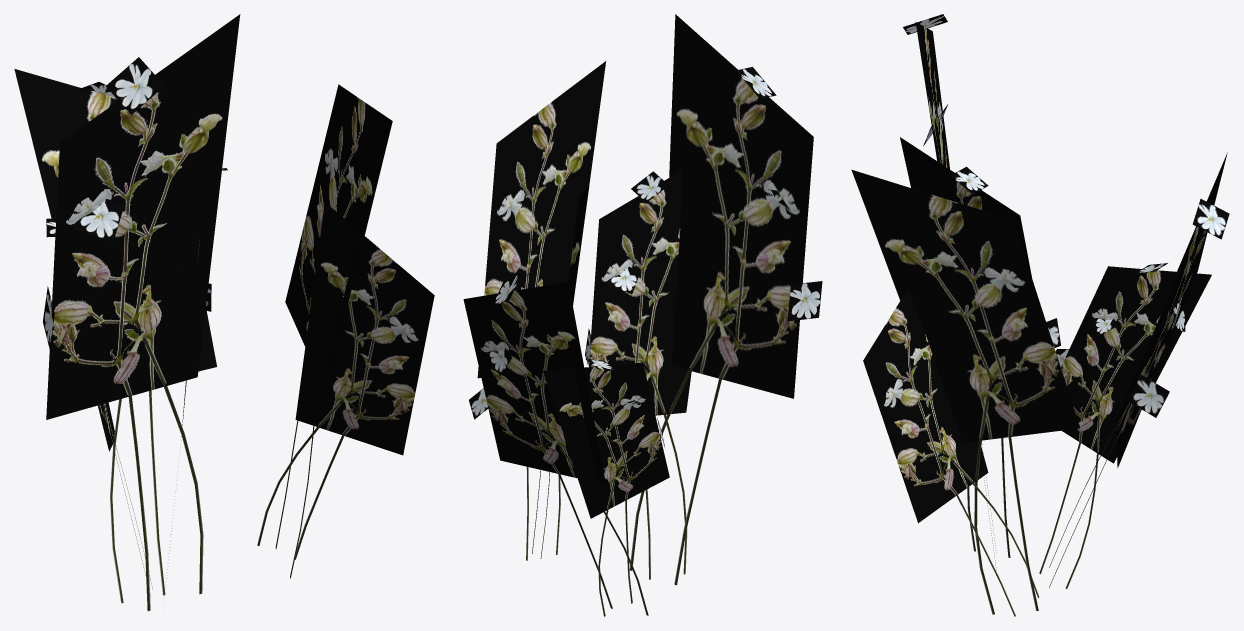
File: 16_Silene_latifolia_big_001.fbx
The picture shows the model from 3 angles, left to right: view 1: azimuth 30°, elevation 25°; view 2: azimuth 150°, elevation 25°; view 3: azimuth 270°, elevation 25°; orthographic projection. The views are drawn at different scales.
Parts seen in each view (by area): view 1: 16_Silene_latifolia_big.001; view 2: 16_Silene_latifolia_big.001; view 3: 16_Silene_latifolia_big.001.
Boxes of the visible parts, x1,y1,x2,y2 form: 16_Silene_latifolia_big.001: [14, 14, 434, 611]; 16_Silene_latifolia_big.001: [463, 14, 822, 616]; 16_Silene_latifolia_big.001: [851, 14, 1229, 616].
Size of the model in its own units: 0.1742 by 0.309 by 0.1864.
